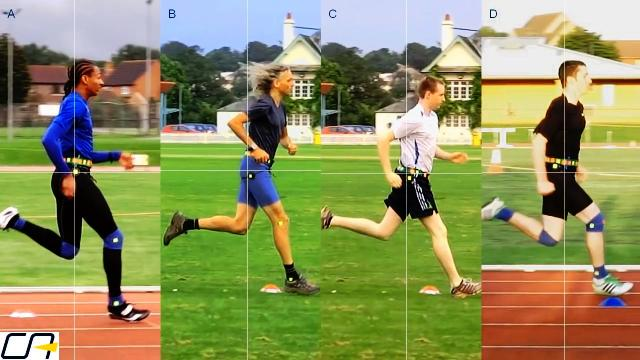berlari: (1, 53, 153, 321), (161, 54, 321, 300), (485, 52, 637, 300), (320, 69, 482, 300)
